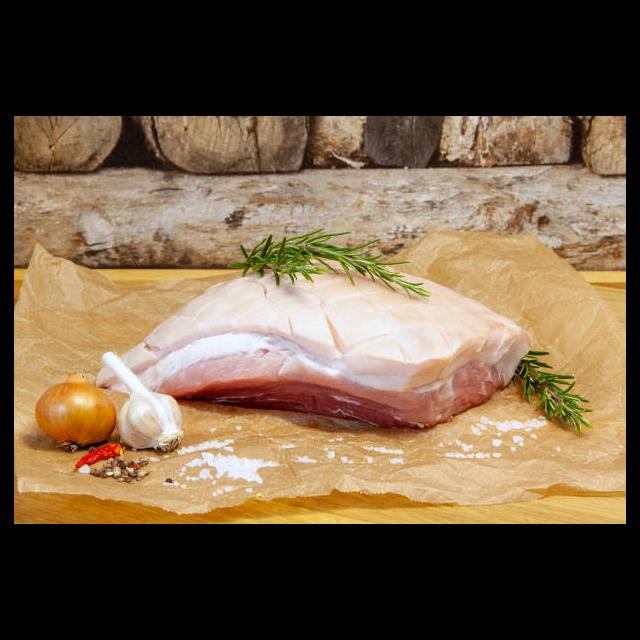pork: (174, 270, 513, 426)
